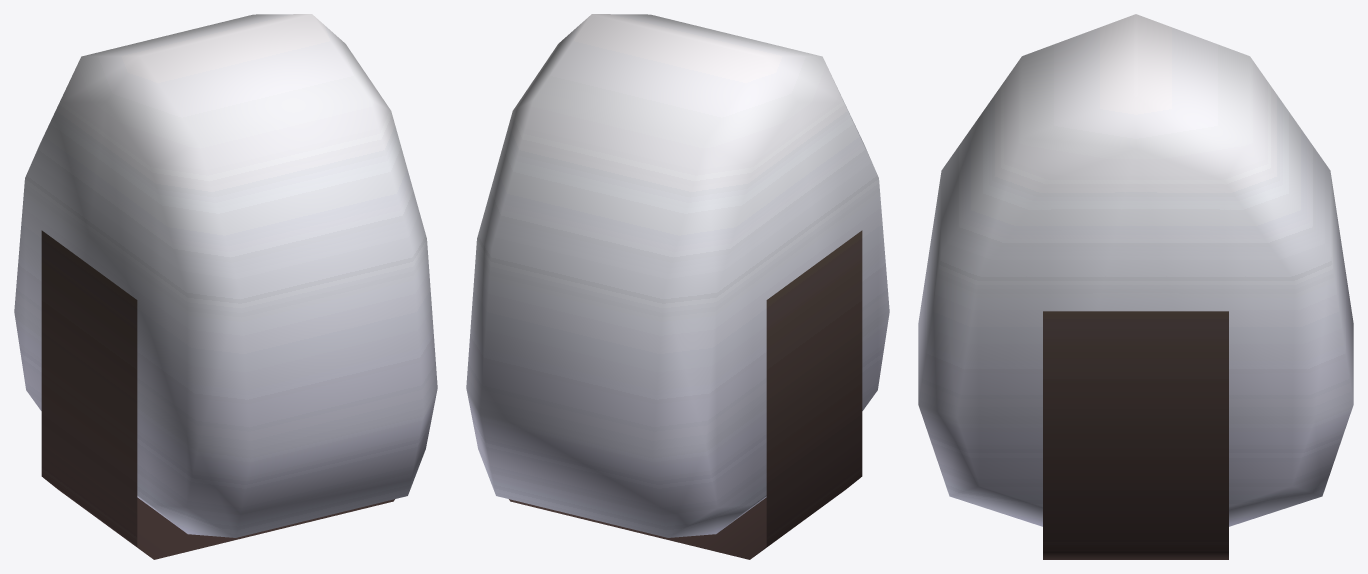
File: rice-ball.glb
The picture shows the model from 3 angles, left to right: view 1: azimuth 30°, elevation 25°; view 2: azimuth 150°, elevation 25°; view 3: azimuth 270°, elevation 25°; orthographic projection. The views are drawn at different scales.
Visible parts, largest first — view 1: rice-ball; view 2: rice-ball; view 3: rice-ball.
Boxes of the visible parts, x1=… form: rice-ball: x1=14, y1=14, x2=437, y2=559; rice-ball: x1=466, y1=14, x2=889, y2=559; rice-ball: x1=918, y1=14, x2=1353, y2=559.
Bounding box in the file's own units: 0.0812 × 0.1309 × 0.1152.
1 material, 1 textured.
